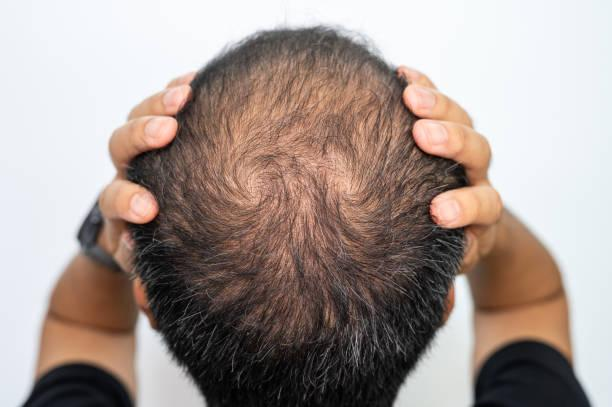grey hair: (202, 318, 222, 372), (347, 316, 367, 368), (274, 384, 286, 404)
low hair density: (208, 134, 369, 226)
